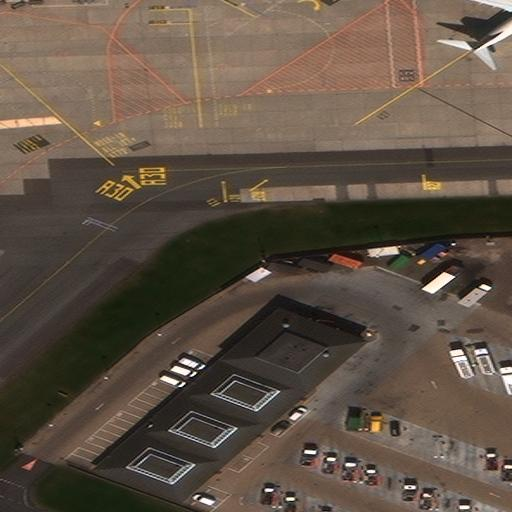Medium Civil Transport: (444, 0, 512, 56)
